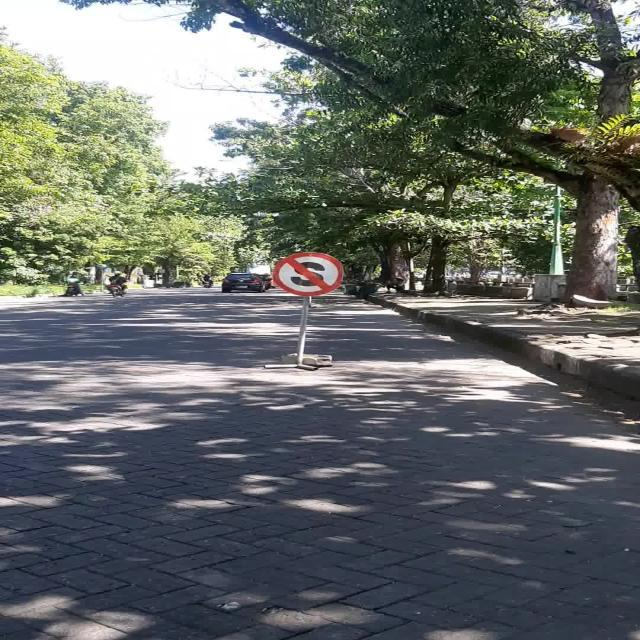Dilarang Berhenti: (274, 252, 342, 296)
